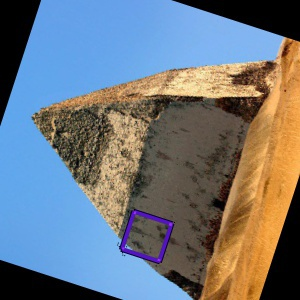square: (117, 208, 177, 265)
